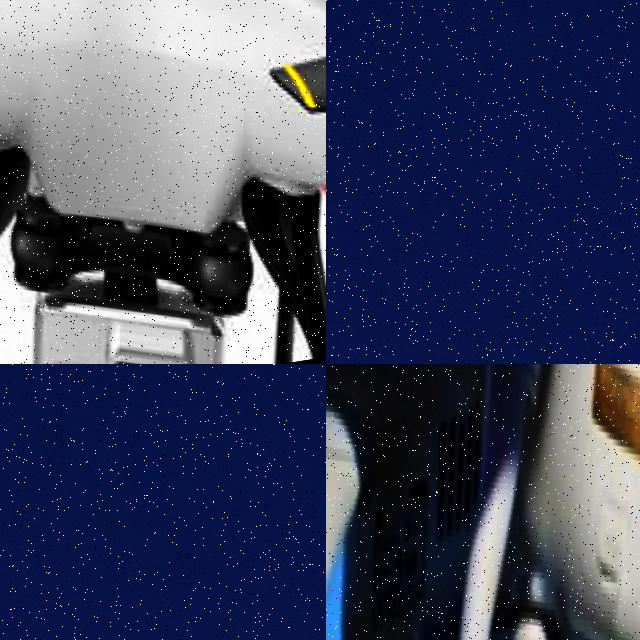drone: (0, 0, 326, 364), (326, 364, 640, 640)
